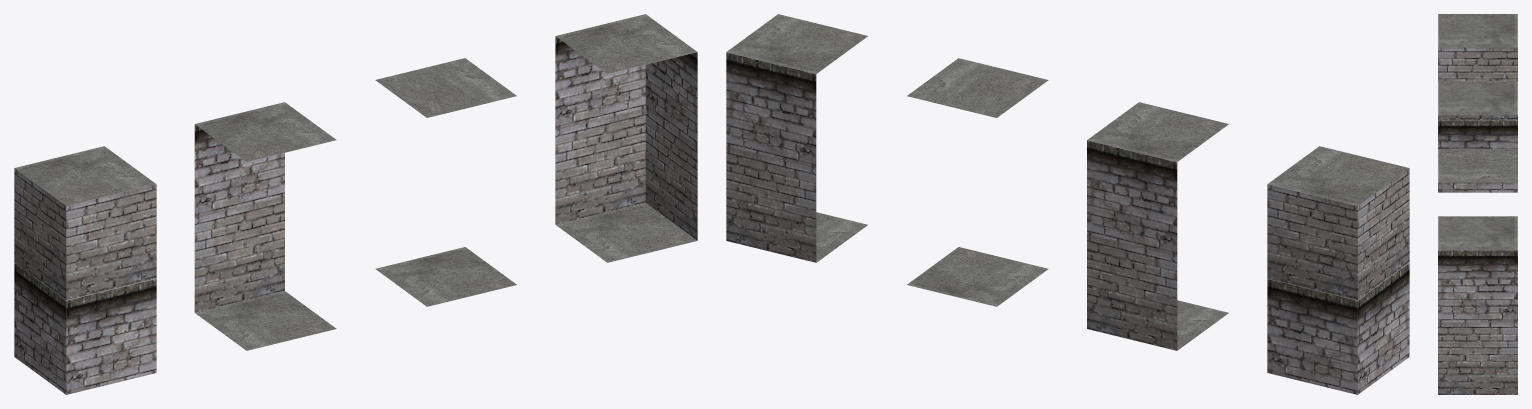
File: level.glb
3 renders of one model, left to right at view 1: azimuth 30°, elevation 25°; view 2: azimuth 150°, elevation 25°; view 3: azimuth 270°, elevation 25°, orthographic. The views are drawn at different scales.
Parts seen in each view (by area): view 1: corner-col, pillar-col, wall-col, floor-col; view 2: pillar-col, corner-col, wall-col, floor-col; view 3: corner-col, pillar-col, wall-col, floor-col.
Part boxes in pixels (bbox=[...]): corner-col: bbox=[555, 14, 697, 262]; pillar-col: bbox=[14, 146, 156, 394]; wall-col: bbox=[194, 102, 336, 350]; floor-col: bbox=[375, 58, 516, 306]; pillar-col: bbox=[1267, 146, 1409, 394]; corner-col: bbox=[726, 14, 867, 262]; wall-col: bbox=[1087, 102, 1228, 350]; floor-col: bbox=[907, 58, 1048, 306]; corner-col: bbox=[1438, 216, 1517, 394]; pillar-col: bbox=[1438, 14, 1517, 192]; wall-col: bbox=[1438, 81, 1517, 115]; floor-col: bbox=[1438, 149, 1517, 182].
Size of the model in its own units: 7 by 2 by 1.
1 material, 1 textured.
